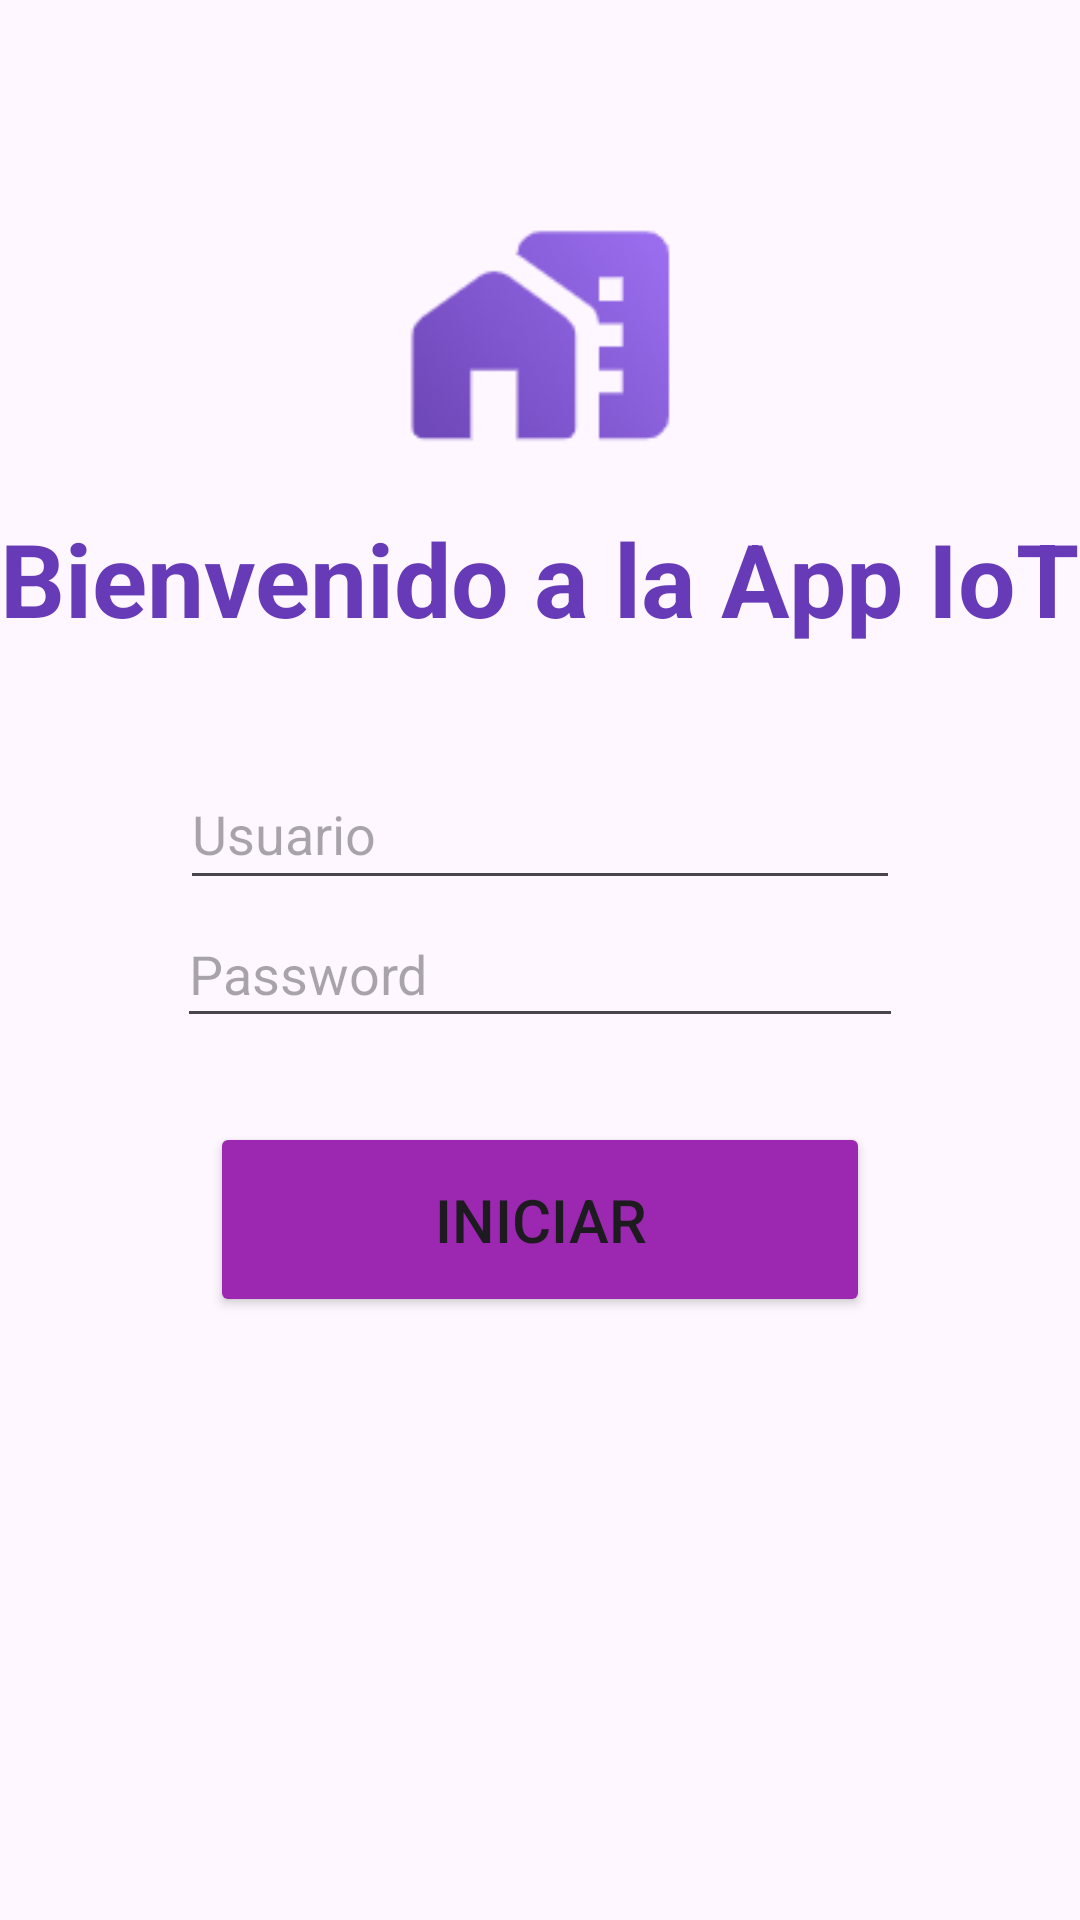

Where icons sit on this 1080 x 1920 app screen, as (x1, y1, x2, y2):
homeinsurance: (410, 230, 670, 440)
